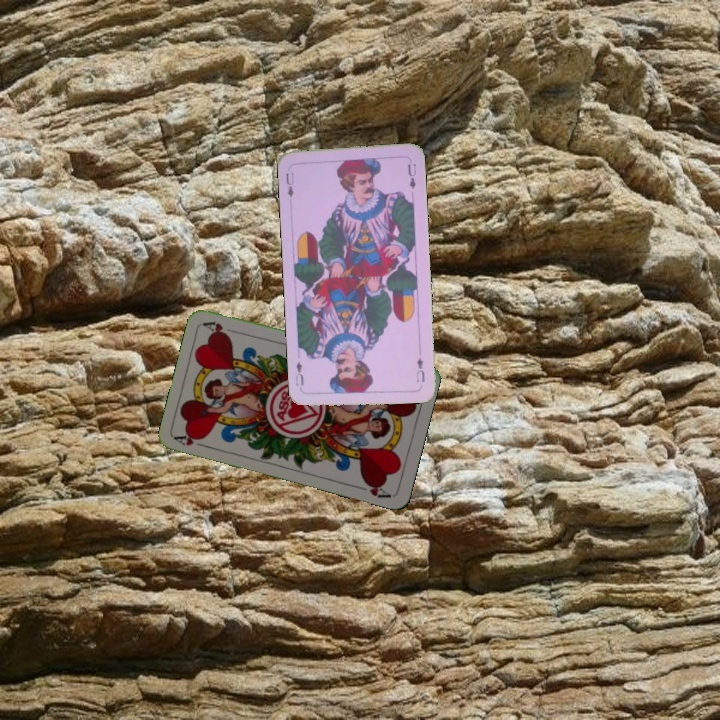EU: (282, 169, 297, 200), (412, 354, 427, 385)
HA: (172, 431, 212, 451)
